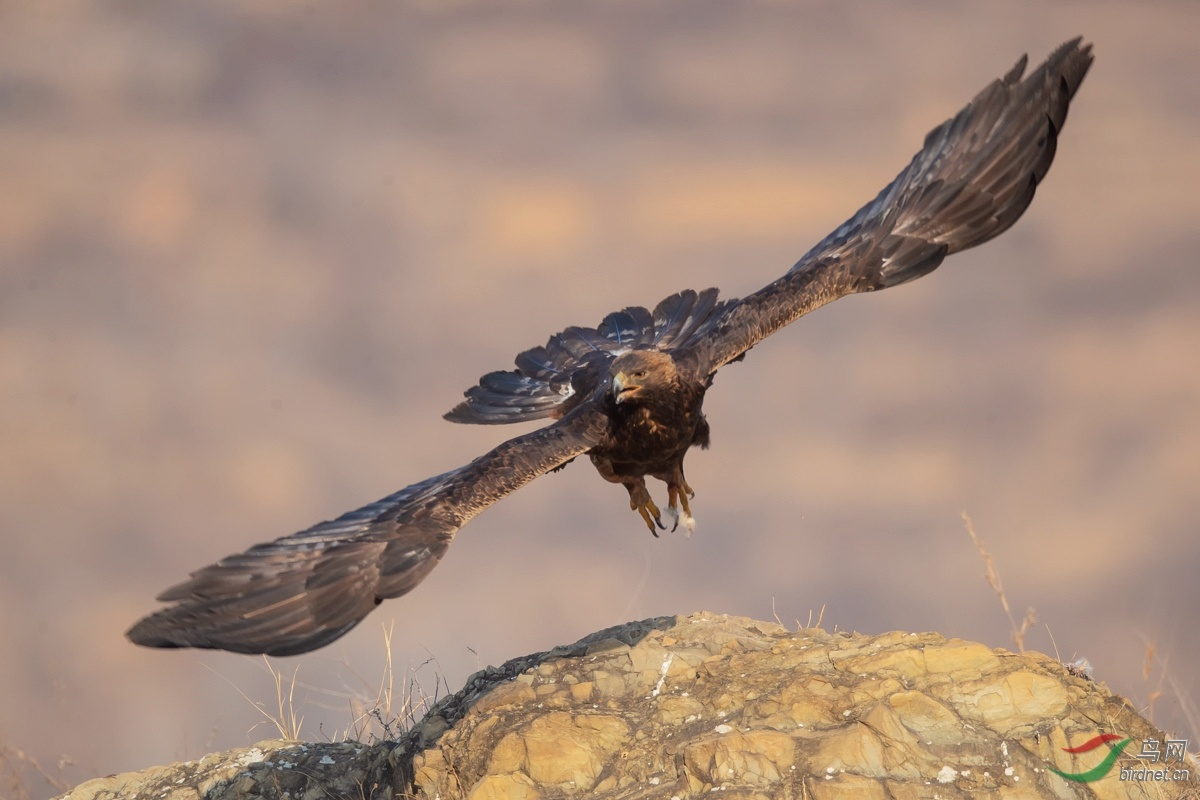fish: (132, 31, 1103, 656)
